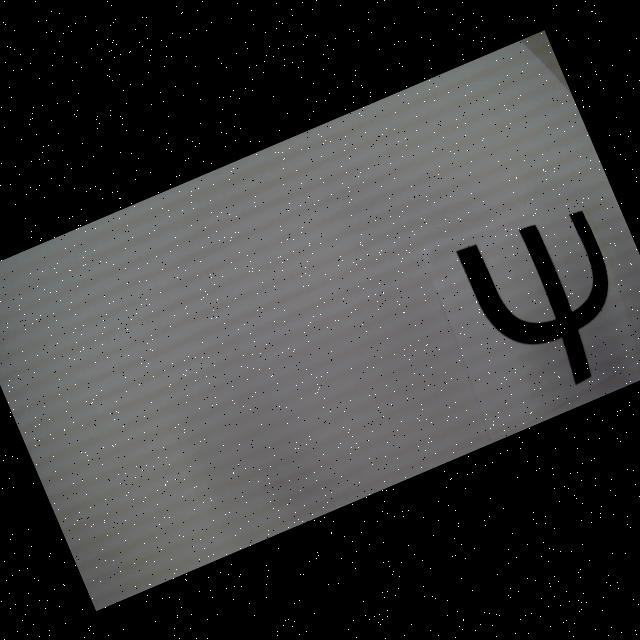PSI: (454, 198, 640, 409)
